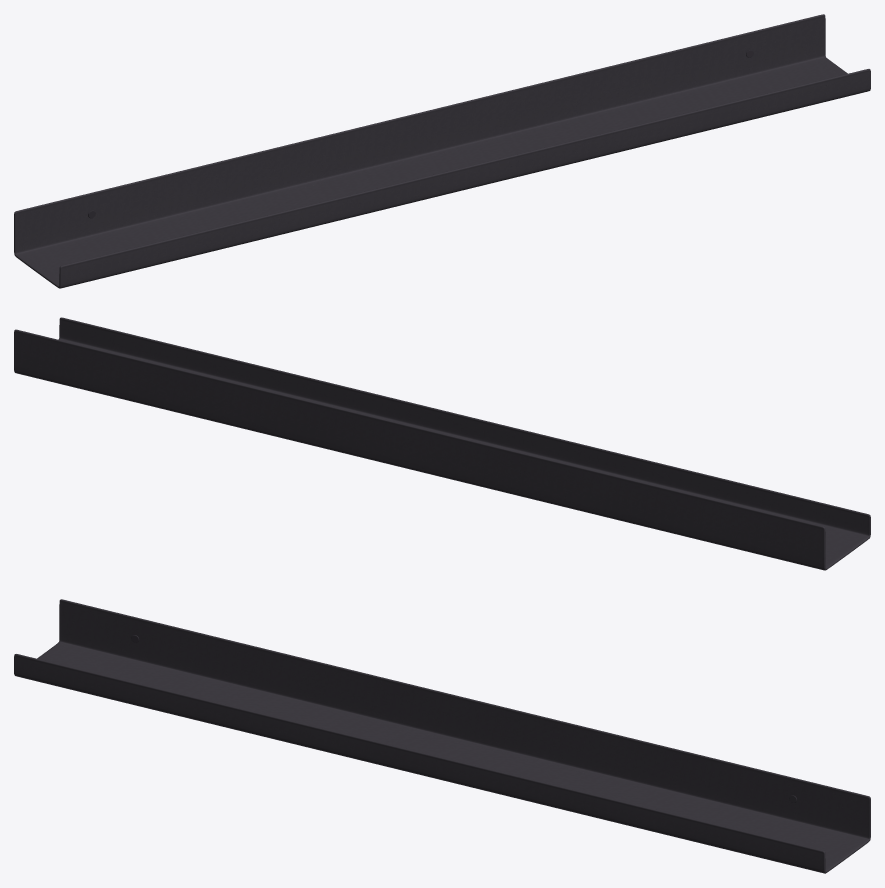
The model's file is appliance_B07B8PXMQT.glb.
3 renders of one model, top to bottom at view 1: azimuth 30°, elevation 25°; view 2: azimuth 150°, elevation 25°; view 3: azimuth 330°, elevation 25°, orthographic.
Parts seen in each view (by area): view 1: RootNode; view 2: RootNode; view 3: RootNode.
Part boxes in pixels (box(x1,y1,x2,y2)): RootNode: box(14, 14, 870, 288); RootNode: box(14, 317, 870, 570); RootNode: box(14, 599, 870, 873).
Bounding box in the file's own units: 0.9241 × 0.0489 × 0.092.
Materials: 1 (1 with a texture image).
